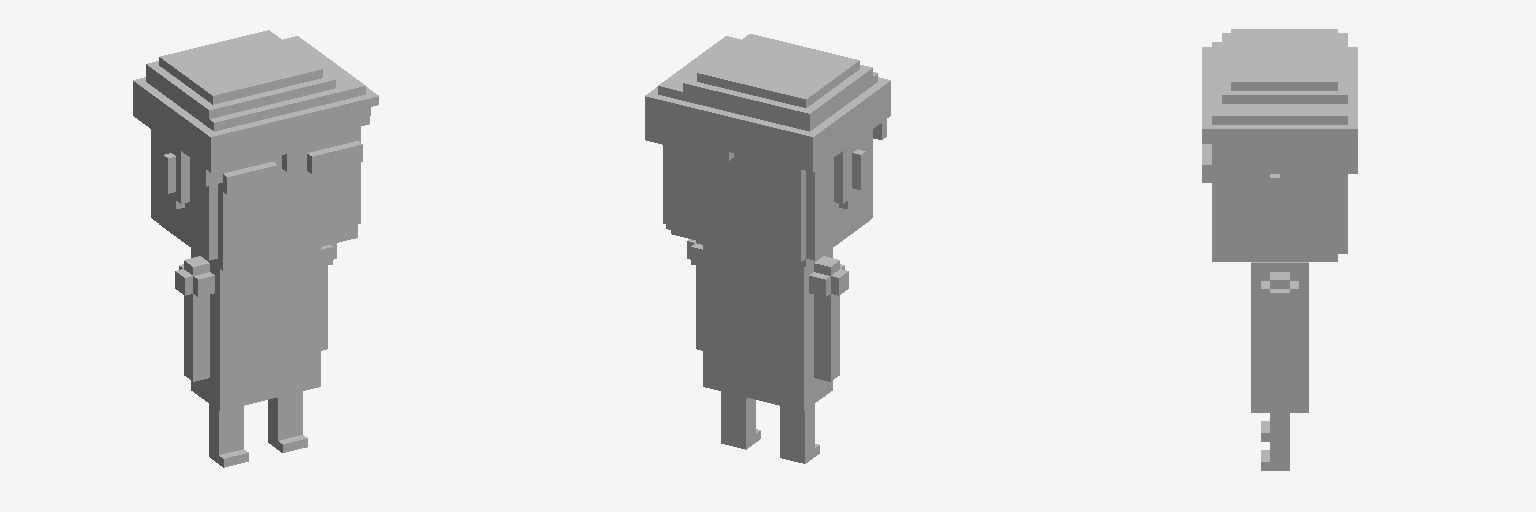
The model's file is skin(t shirt change orange-stripe).obj.
The picture shows the model from 3 angles: view 1: azimuth 30°, elevation 25°; view 2: azimuth 150°, elevation 25°; view 3: azimuth 270°, elevation 25°; orthographic projection.
Parts seen in each view (by area): view 1: character; view 2: character; view 3: character.
Part boxes in pixels (x1,y1,x2,y2): character: (133, 30, 378, 467); character: (645, 34, 890, 463); character: (1202, 29, 1357, 470).
Size of the model in its own units: 2.2 by 4.4 by 1.6.